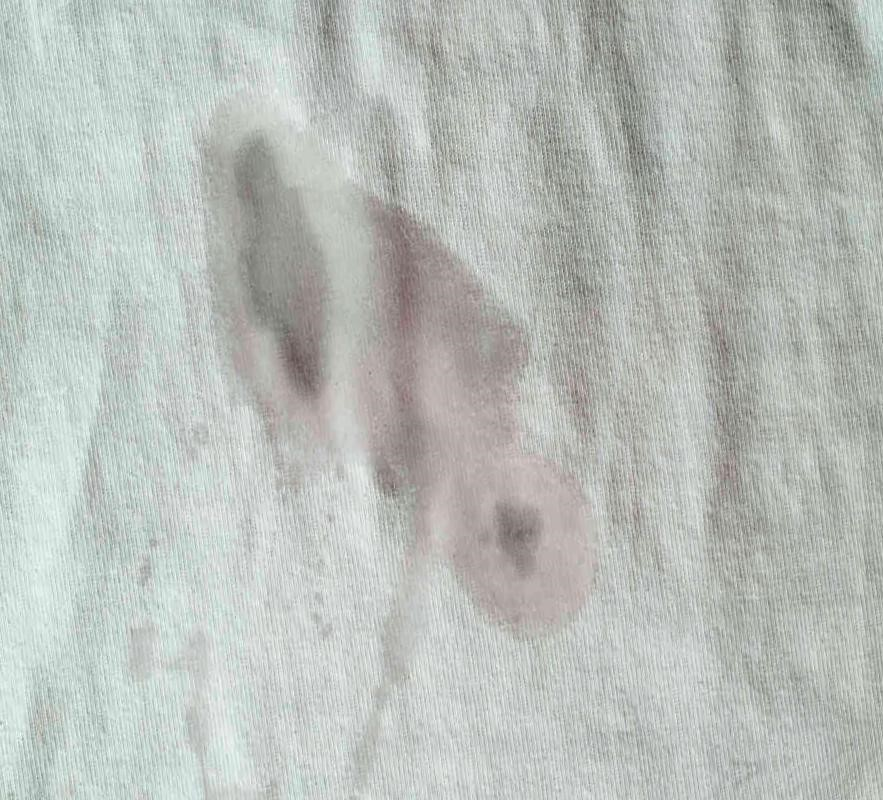stain: (187, 77, 619, 650)
